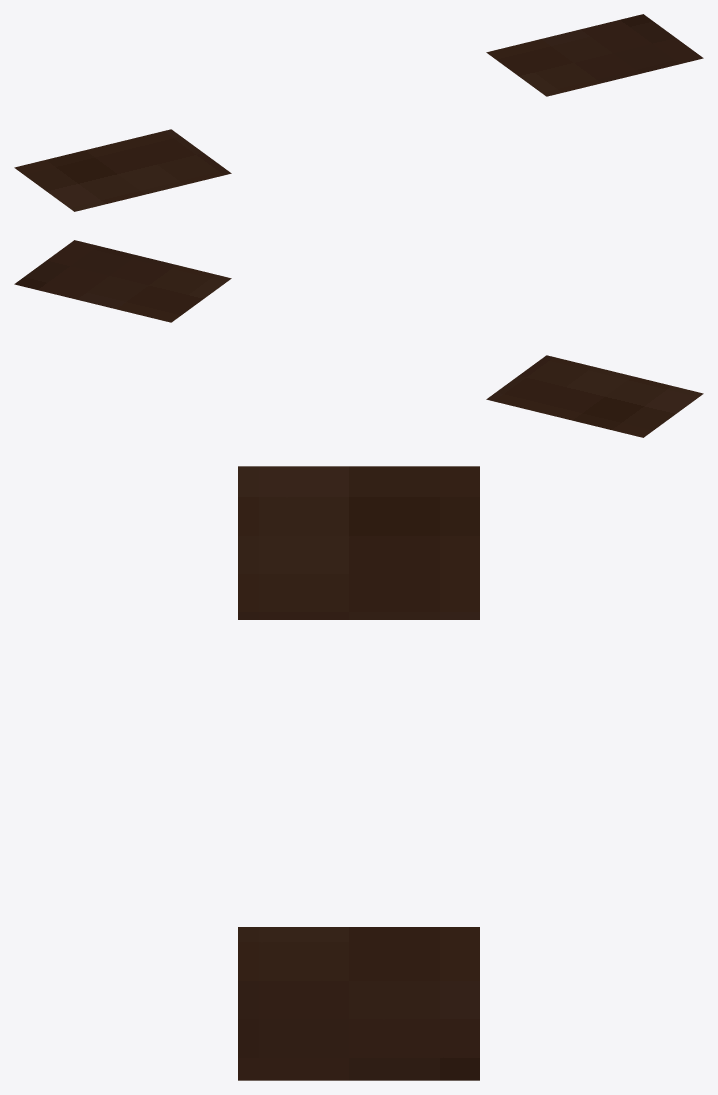
File: smallstucco_arch_footprint.fbx
3 views of the same model, one above another, from view 1: azimuth 30°, elevation 25°; view 2: azimuth 150°, elevation 25°; view 3: azimuth 270°, elevation 25° (orthographic). The views are drawn at different scales.
Visible parts, largest first — view 1: footprint; view 2: footprint; view 3: footprint.
Boxes of the visible parts, bbox=[...] form: footprint: bbox=[14, 14, 703, 211]; footprint: bbox=[14, 240, 703, 437]; footprint: bbox=[238, 466, 479, 1080].
Bounding box in the file's own units: 1200 × 3.27e-05 × 200.
1 material, 1 textured.
